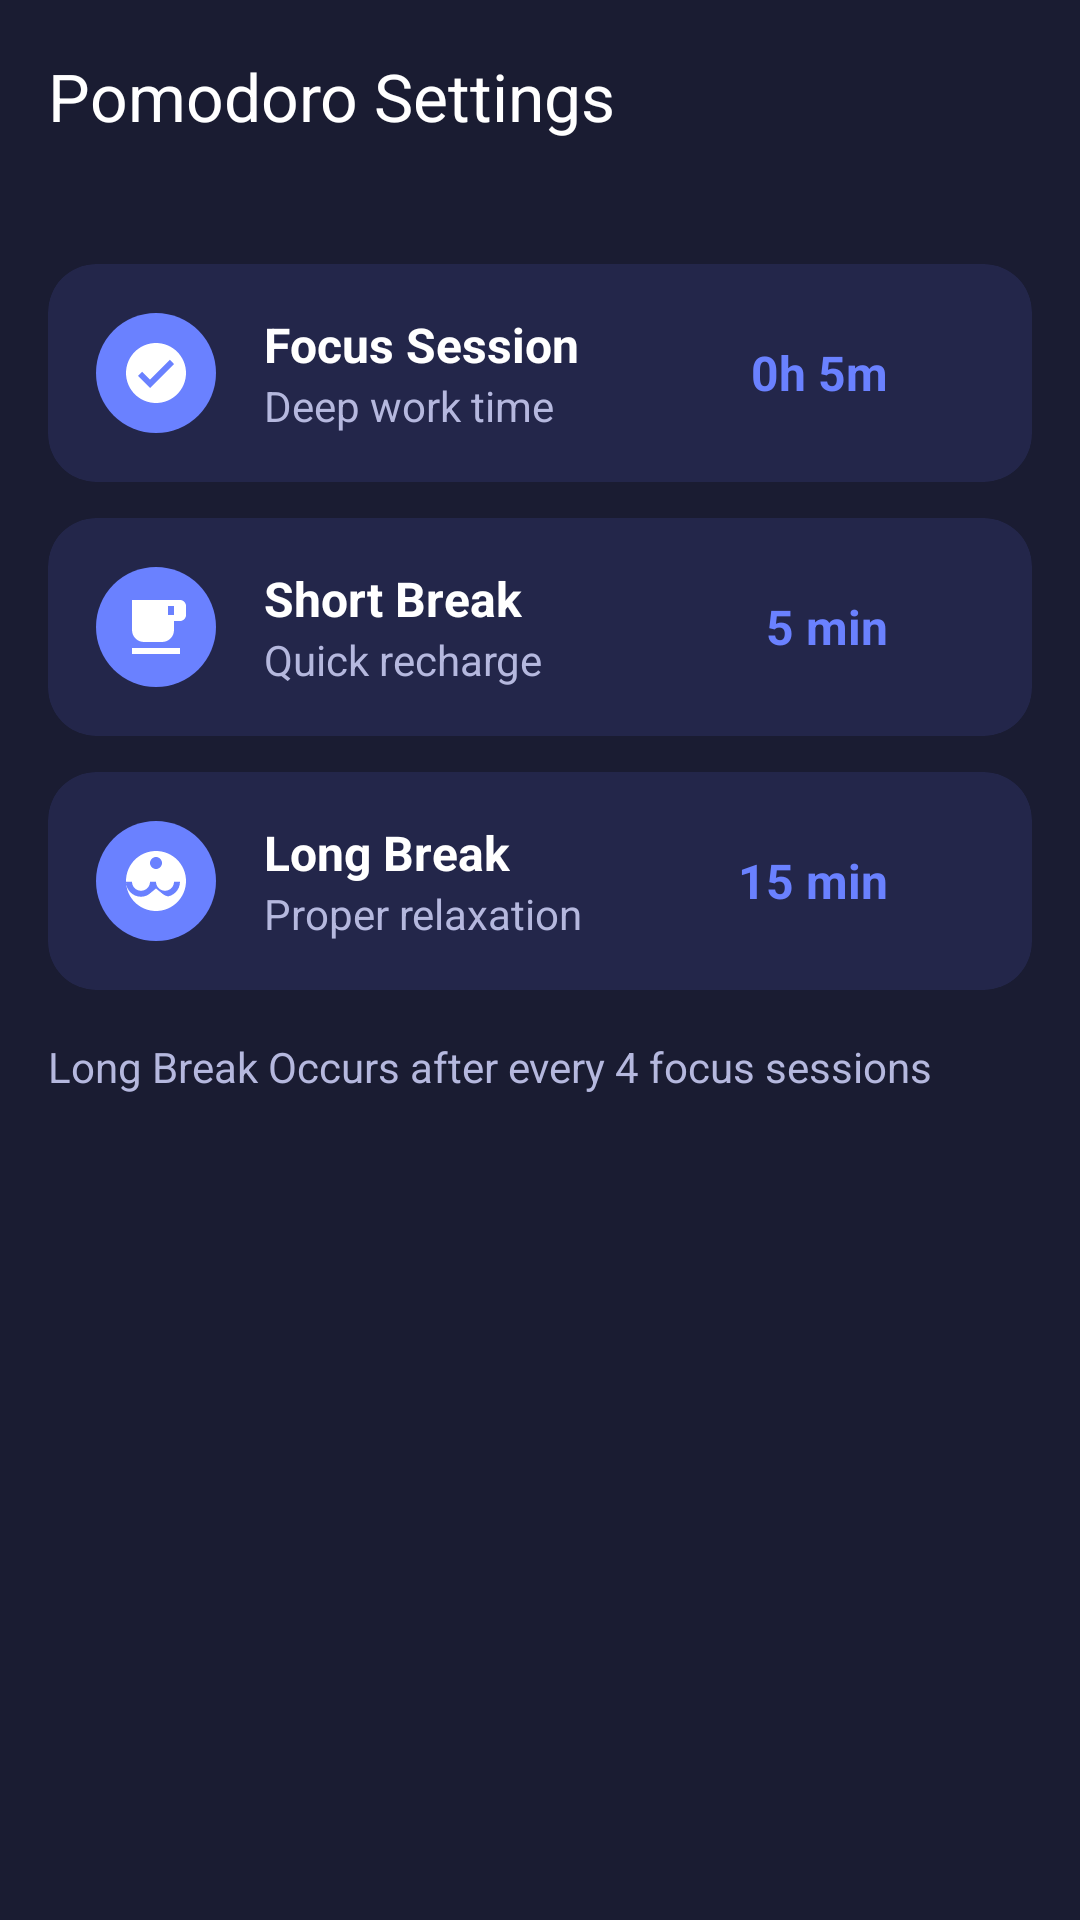

Named icons in this screenshot (1080w x 1920h) and their centers, point (x, y):
coffee: point (156, 627)
meditation: point (156, 881)
timer check: point (156, 373)
